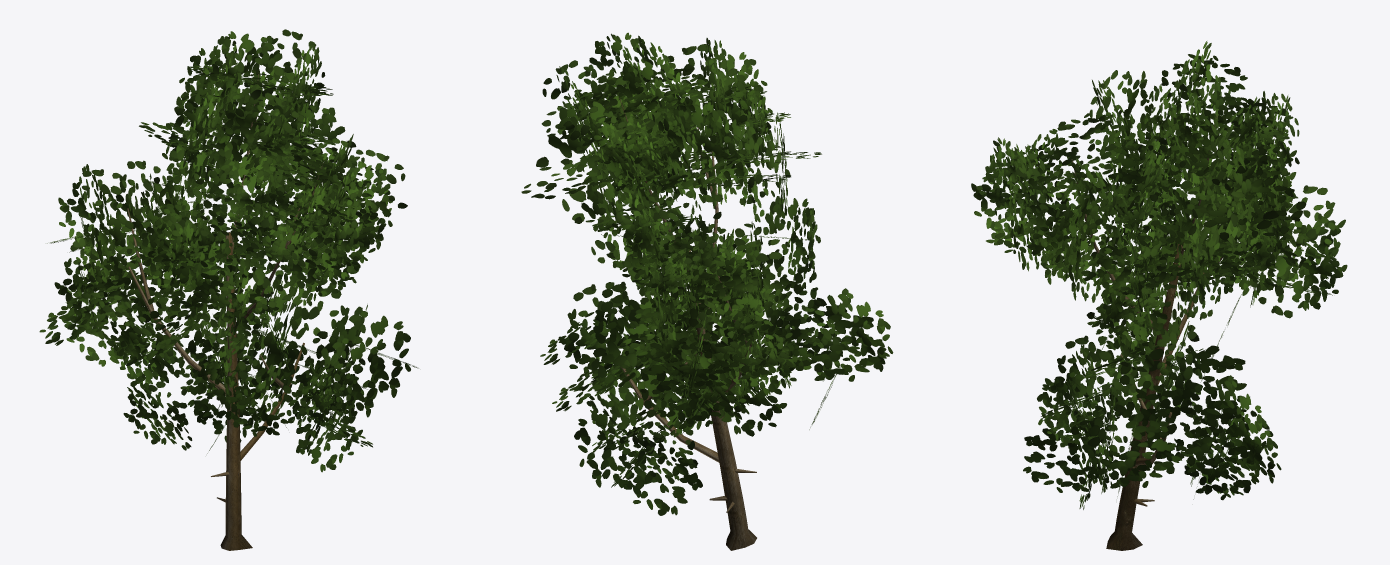
File: env_tree_prairie_mature_02.glb
3 renders of one model, left to right at view 1: azimuth 30°, elevation 25°; view 2: azimuth 150°, elevation 25°; view 3: azimuth 270°, elevation 25°, orthographic. The views are drawn at different scales.
Parts seen in each view (by area): view 1: tree_prairie_mature_02; view 2: tree_prairie_mature_02; view 3: tree_prairie_mature_02.
Part boxes in pixels (x1,y1,x2,y2): tree_prairie_mature_02: (39, 29, 418, 550); tree_prairie_mature_02: (521, 32, 893, 550); tree_prairie_mature_02: (971, 41, 1347, 550).
Size of the model in its own units: 7.58 by 9.08 by 6.49.
2 materials, 2 textured.
